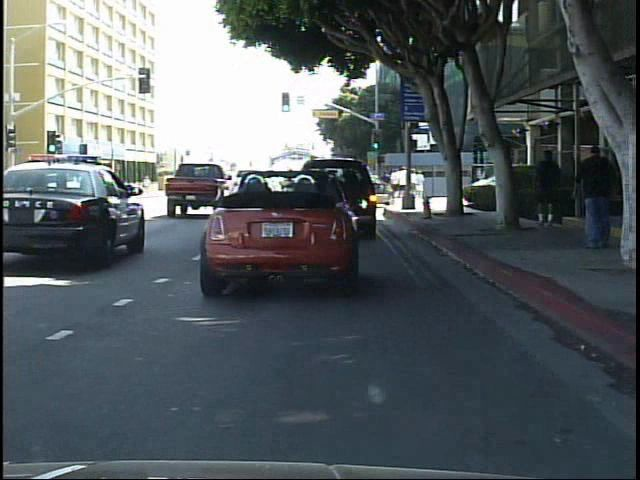person: (573, 141, 619, 256), (528, 146, 570, 236), (142, 174, 153, 198)
